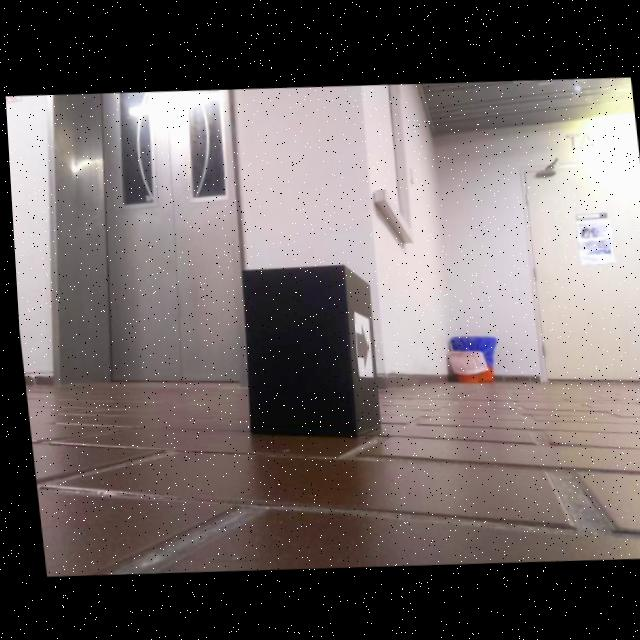RIGHT: (352, 324, 364, 369)
